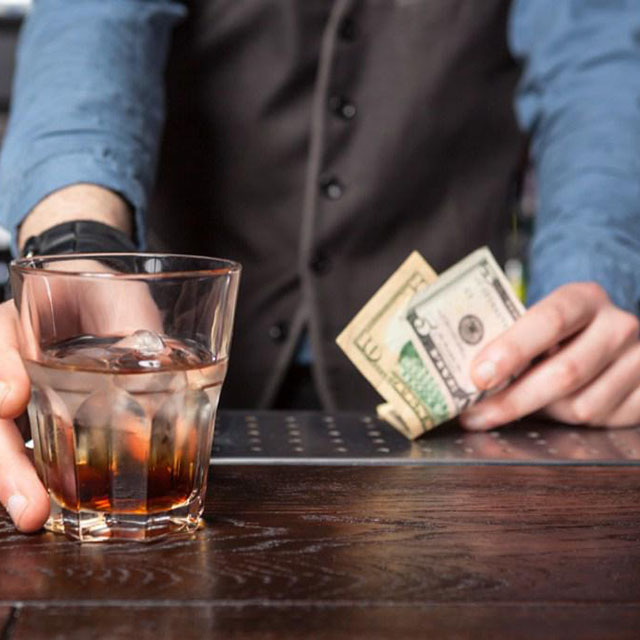banknotes: (334, 246, 529, 440)
